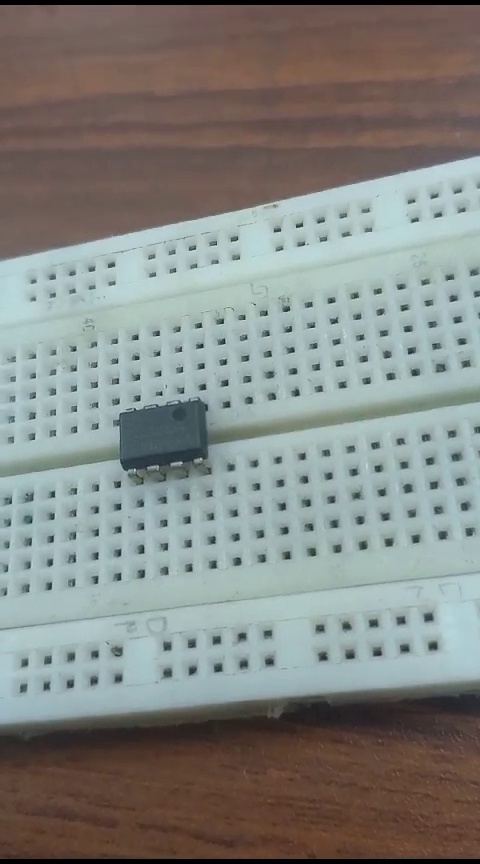IC: (108, 396, 230, 477)
